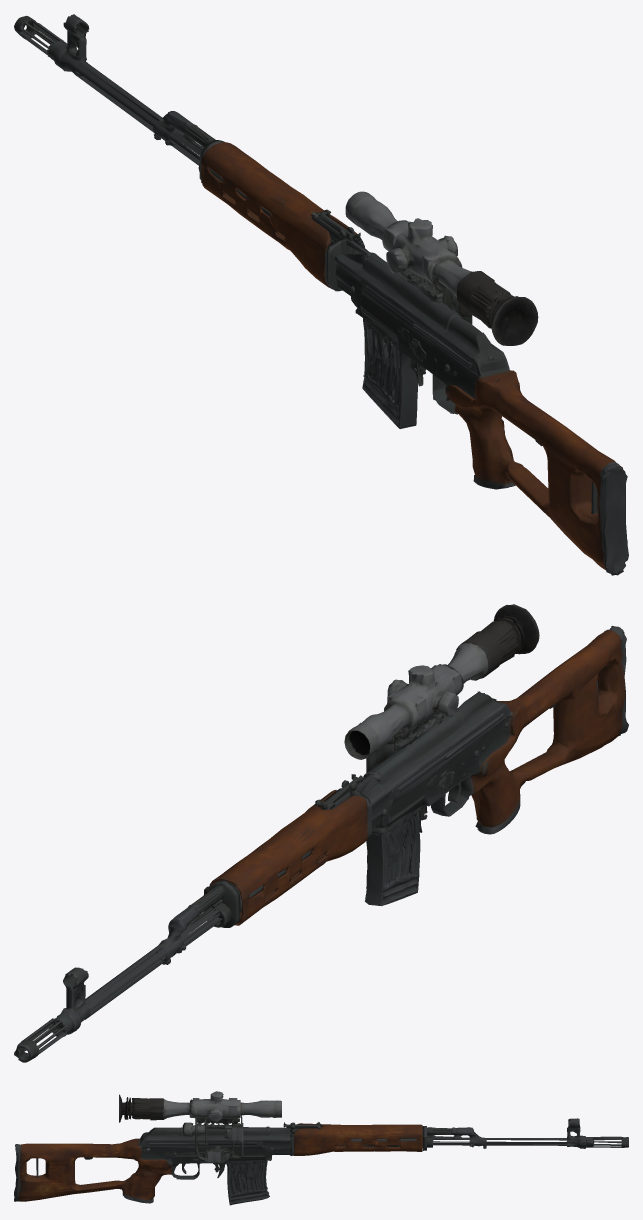
File: svd.glb
The picture shows the model from 3 angles, top to bottom: view 1: azimuth 30°, elevation 25°; view 2: azimuth 150°, elevation 25°; view 3: azimuth 270°, elevation 25°; orthographic projection. The views are drawn at different scales.
Parts seen in each view (by area): view 1: govde; view 2: govde; view 3: govde.
Part boxes in pixels (x1,y1,x2,y2): govde: (14,14,628,575); govde: (14,604,628,1062); govde: (14,1091,628,1205).
Bounding box in the file's own units: 0.0731 × 0.2414 × 1.22.
Materials: 1 (1 with a texture image).
